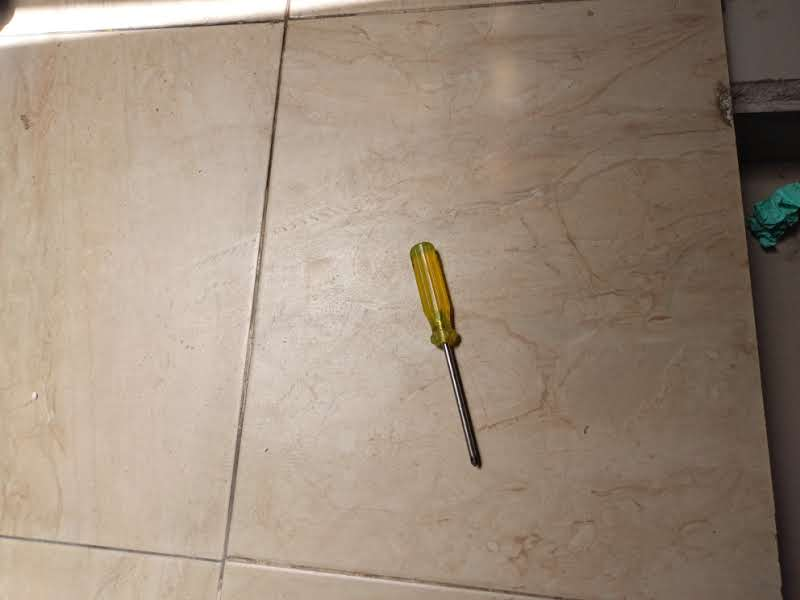Destornillador: (410, 241, 479, 466)
